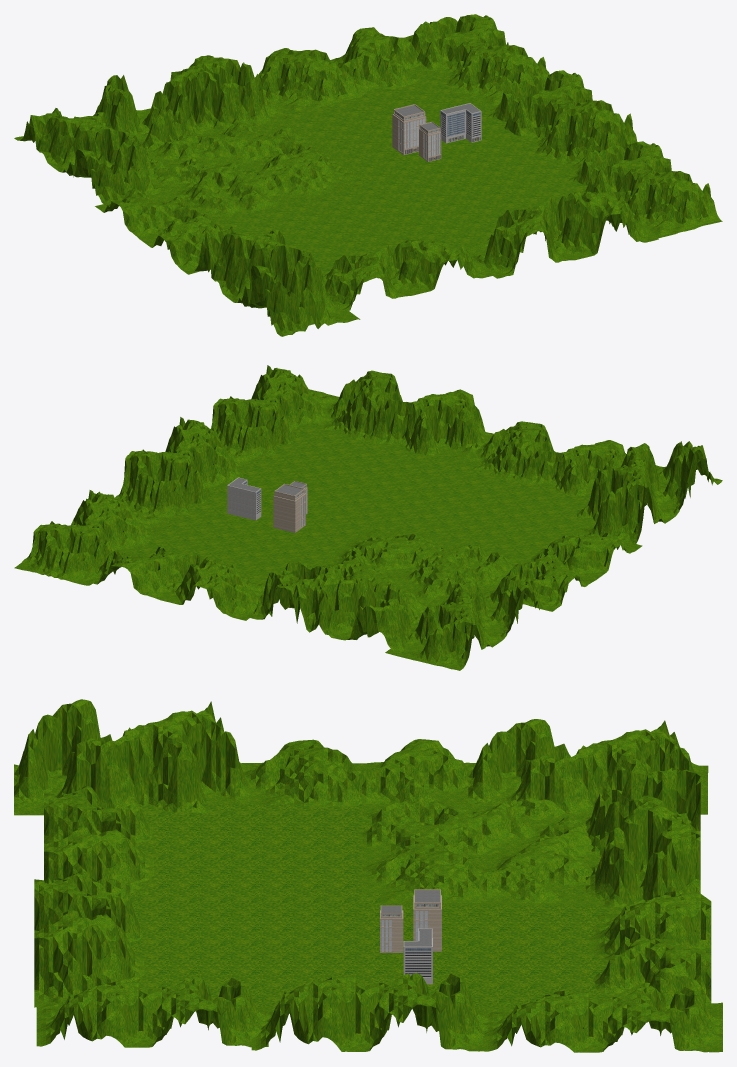
The model's file is terrain_new2.obj.
3 renders of one model, top to bottom at view 1: azimuth 30°, elevation 25°; view 2: azimuth 150°, elevation 25°; view 3: azimuth 270°, elevation 25°, orthographic. The views are drawn at different scales.
Parts seen in each view (by area): view 1: Plane001, WS_free_terrain_001, default, Object001.001, Object002, default001.001, default001.002, Object002.002, default001, Object001, Object002.003, Object002.001 (+3 smaller); view 2: Plane001, WS_free_terrain_001, Object002.002, default, Object001.001, default001.001, default001, Object001, default001.002, Object002.003, Object002, Object002.001 (+2 smaller); view 3: Plane001, WS_free_terrain_001, Object001.001, Object001, default, default001.001, Object002.001, default001, Object002.002, default001.002, Object002, Object002.003 (+3 smaller).
Part boxes in pixels (x1=…): Plane001: x1=141, y1=72, x2=587, y2=282; WS_free_terrain_001: x1=147, y1=114, x2=368, y2=221; default: x1=95, y1=55, x2=287, y2=151; Object001.001: x1=189, y1=226, x2=360, y2=336; Object002: x1=254, y1=27, x2=441, y2=111; default001.001: x1=487, y1=70, x2=637, y2=170; default001.002: x1=567, y1=141, x2=722, y2=240; Object002.002: x1=466, y1=191, x2=658, y2=278; default001: x1=405, y1=14, x2=549, y2=108; Object001: x1=14, y1=108, x2=179, y2=205; Object002.003: x1=323, y1=238, x2=495, y2=314; Object002.001: x1=95, y1=189, x2=224, y2=274; Plane001: x1=126, y1=423, x2=591, y2=625; WS_free_terrain_001: x1=317, y1=525, x2=531, y2=615; Object002.002: x1=319, y1=370, x2=493, y2=459; default: x1=244, y1=561, x2=421, y2=653; Object001.001: x1=572, y1=441, x2=722, y2=546; default001.001: x1=115, y1=417, x2=251, y2=518; default001: x1=14, y1=490, x2=171, y2=585; Object001: x1=385, y1=575, x2=549, y2=670; default001.002: x1=211, y1=365, x2=339, y2=460; Object002.003: x1=463, y1=421, x2=626, y2=495; Object002: x1=93, y1=545, x2=265, y2=620; Object002.001: x1=493, y1=530, x2=642, y2=611; Plane001: x1=130, y1=804, x2=612, y2=1007; WS_free_terrain_001: x1=362, y1=798, x2=602, y2=905; Object001.001: x1=14, y1=699, x2=254, y2=815; Object001: x1=468, y1=719, x2=708, y2=814; default: x1=585, y1=767, x2=700, y2=908; default001.001: x1=251, y1=973, x2=488, y2=1051; Object002.001: x1=241, y1=739, x2=475, y2=807; default001: x1=483, y1=985, x2=722, y2=1052; Object002.002: x1=34, y1=872, x2=149, y2=1007; default001.002: x1=36, y1=976, x2=268, y2=1047; Object002: x1=589, y1=891, x2=711, y2=1006; Object002.003: x1=44, y1=785, x2=159, y2=899.
Bounding box in the file's own units: 22.74 × 2.51 × 23.45.
Materials: 5 (5 with a texture image).
